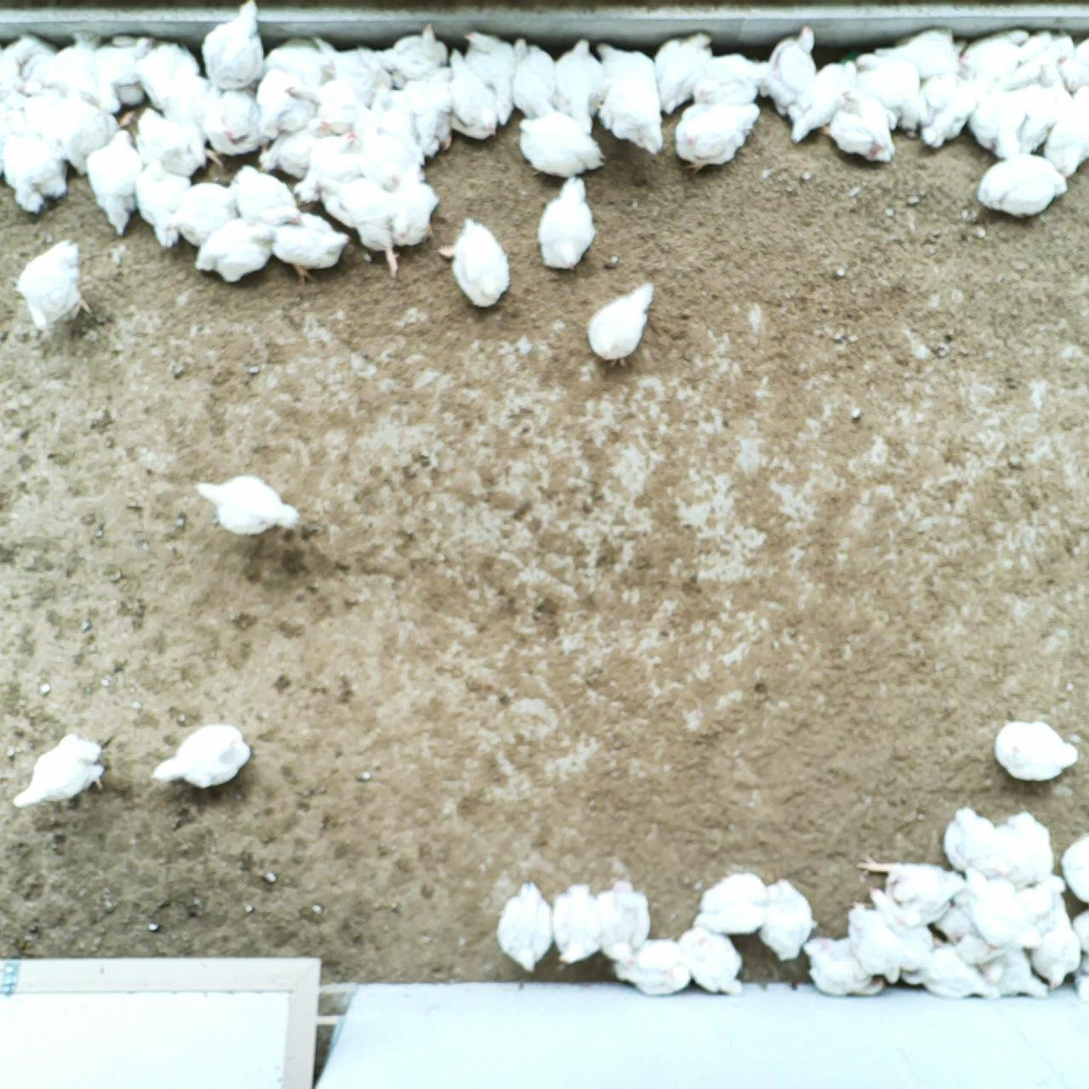chicken: (345, 161, 433, 284), (20, 84, 119, 177), (590, 39, 665, 155), (251, 39, 329, 143), (130, 41, 214, 137), (0, 107, 72, 217), (15, 236, 96, 332), (147, 720, 255, 791), (11, 731, 108, 810), (977, 77, 1067, 161), (193, 470, 301, 538), (439, 214, 514, 311), (860, 853, 965, 921), (133, 108, 221, 188), (290, 119, 369, 208), (76, 32, 160, 115), (584, 277, 659, 367), (671, 102, 763, 174), (204, 0, 273, 95), (435, 44, 501, 143), (961, 862, 1035, 949), (339, 112, 425, 185), (84, 127, 141, 236), (494, 878, 558, 975), (786, 59, 858, 145), (755, 871, 823, 962), (193, 212, 280, 283), (957, 934, 1049, 1001), (800, 935, 892, 1002), (850, 50, 920, 138), (19, 30, 103, 103), (818, 90, 897, 167), (672, 925, 753, 999), (913, 938, 1006, 1002), (537, 175, 598, 272), (514, 112, 609, 174), (864, 880, 934, 964), (273, 210, 351, 285), (654, 29, 718, 120), (977, 153, 1068, 217), (366, 81, 434, 165), (548, 37, 606, 134), (292, 130, 368, 204), (161, 181, 242, 250), (313, 32, 393, 101), (991, 720, 1081, 781), (397, 63, 456, 156), (461, 29, 518, 124), (595, 874, 652, 968), (1026, 894, 1081, 989), (882, 26, 970, 85), (765, 23, 819, 119), (913, 72, 984, 145), (202, 82, 270, 157), (842, 900, 901, 986), (256, 118, 335, 182), (549, 883, 606, 971), (690, 53, 773, 113), (383, 20, 450, 93), (226, 165, 302, 229), (692, 872, 769, 935), (135, 159, 191, 245), (283, 78, 368, 134), (933, 904, 1006, 969), (608, 940, 690, 997), (996, 810, 1054, 889), (941, 805, 1002, 879), (1009, 28, 1078, 93), (1041, 86, 1089, 178), (952, 30, 1030, 86), (315, 173, 390, 231), (507, 35, 556, 122), (1017, 874, 1066, 942), (0, 31, 53, 92), (1059, 829, 1089, 909), (1059, 36, 1089, 100), (1070, 904, 1089, 958)
